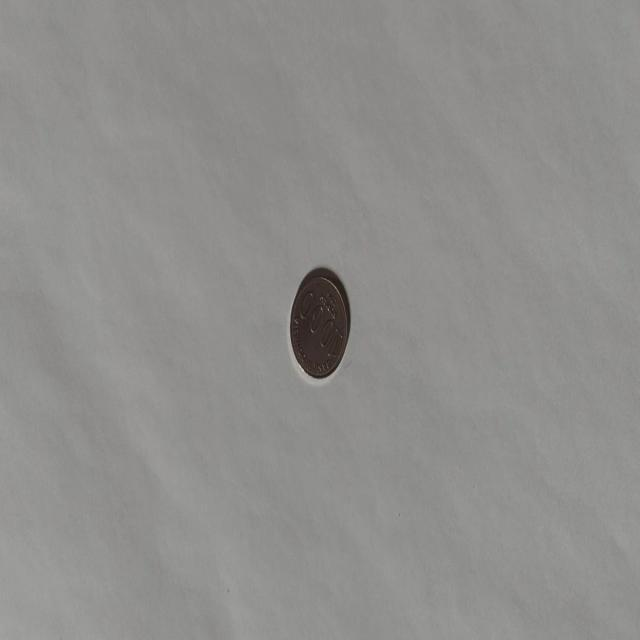seribu rupiah koin: (288, 266, 350, 382)
